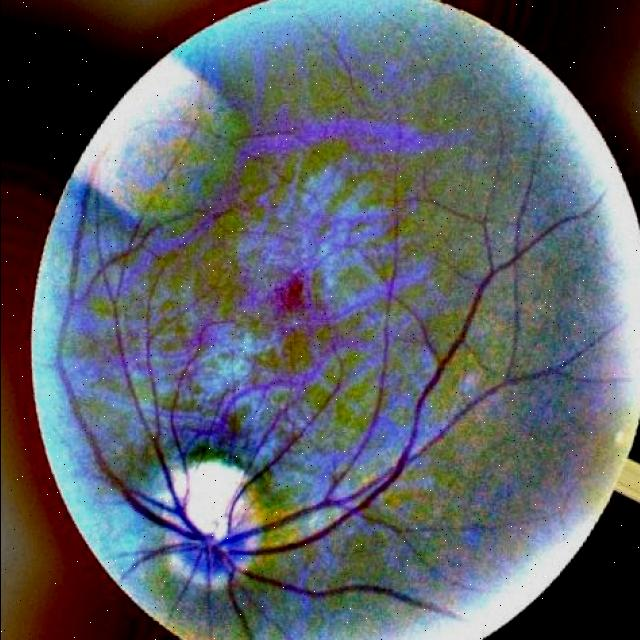Nerves: (108, 213, 597, 621)
